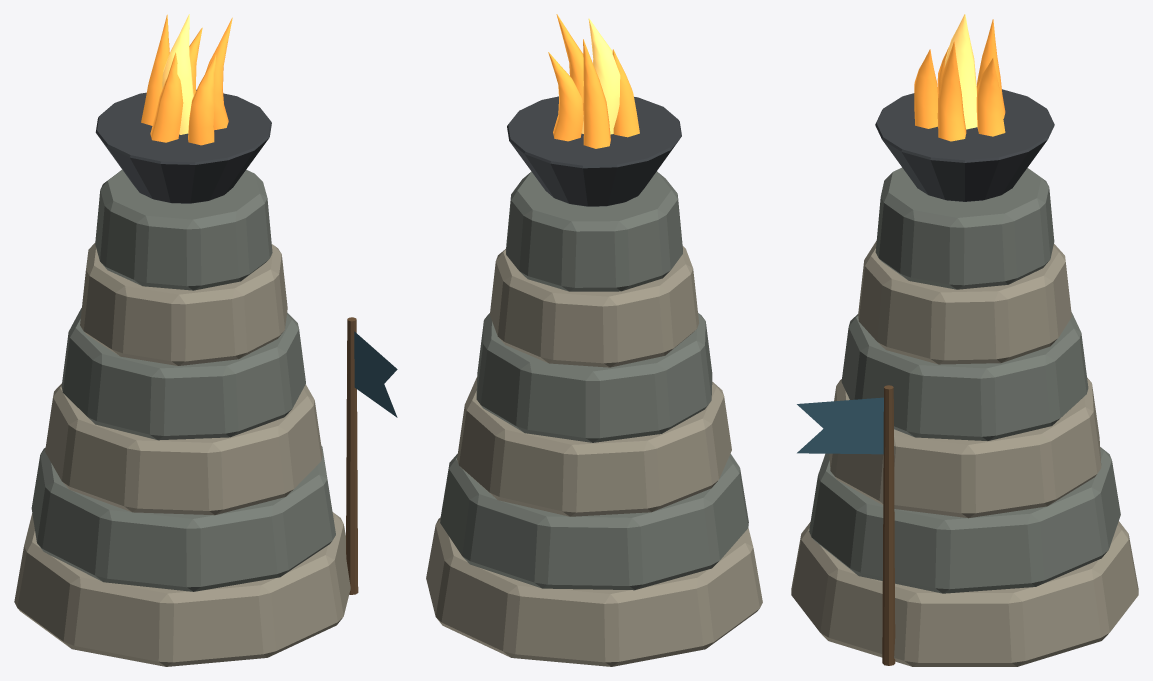
The model's file is crag_beacon.glb.
3 views of the same model, side by side, from view 1: azimuth 30°, elevation 25°; view 2: azimuth 150°, elevation 25°; view 3: azimuth 270°, elevation 25° (orthographic).
Visible parts, largest first — view 1: Pigment_a49d8b, Pigment_787e76, Pigment_45494d, Pigment_dc903f, Pigment_74573b, Pigment_497488, Pigment_f5ce78; view 2: Pigment_a49d8b, Pigment_787e76, Pigment_45494d, Pigment_dc903f, Pigment_f5ce78; view 3: Pigment_a49d8b, Pigment_787e76, Pigment_45494d, Pigment_dc903f, Pigment_497488, Pigment_74573b, Pigment_f5ce78.
Boxes of the visible parts, x1=… form: Pigment_a49d8b: x1=14, y1=243, x2=350, y2=666; Pigment_787e76: x1=31, y1=169, x2=335, y2=591; Pigment_45494d: x1=95, y1=89, x2=271, y2=203; Pigment_dc903f: x1=141, y1=14, x2=232, y2=145; Pigment_74573b: x1=346, y1=317, x2=358, y2=594; Pigment_497488: x1=354, y1=331, x2=397, y2=417; Pigment_f5ce78: x1=162, y1=14, x2=193, y2=134; Pigment_a49d8b: x1=426, y1=246, x2=762, y2=666; Pigment_787e76: x1=440, y1=171, x2=748, y2=590; Pigment_45494d: x1=507, y1=96, x2=681, y2=206; Pigment_dc903f: x1=548, y1=14, x2=639, y2=148; Pigment_f5ce78: x1=581, y1=18, x2=620, y2=134; Pigment_a49d8b: x1=791, y1=241, x2=1138, y2=666; Pigment_787e76: x1=809, y1=167, x2=1120, y2=593; Pigment_45494d: x1=875, y1=89, x2=1054, y2=201; Pigment_dc903f: x1=914, y1=19, x2=1005, y2=141; Pigment_497488: x1=797, y1=397, x2=883, y2=454; Pigment_74573b: x1=882, y1=385, x2=895, y2=665; Pigment_f5ce78: x1=944, y1=14, x2=977, y2=129.
Size of the model in its own units: 3.08 by 5.96 by 3.19.
